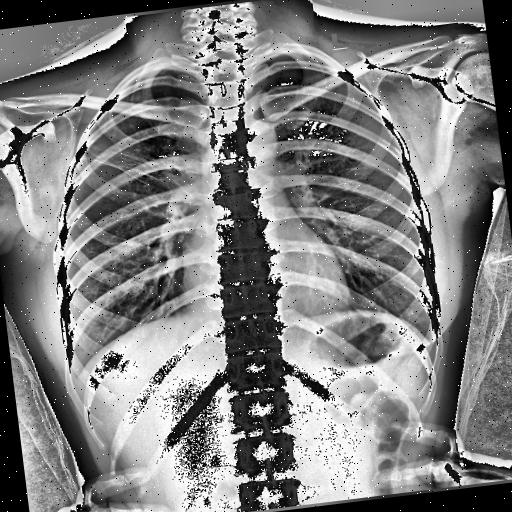13- Pulmonary fibrosis: (86, 132, 186, 200), (78, 134, 174, 189), (80, 136, 162, 194)
